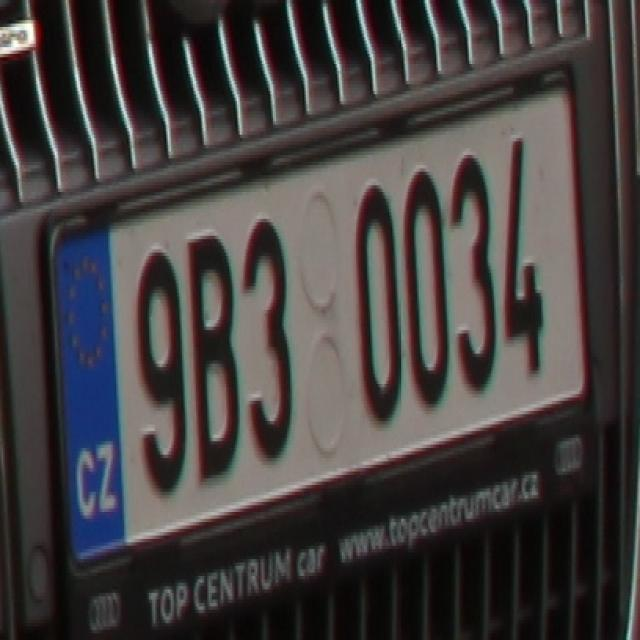0: (403, 162, 450, 411), (354, 182, 398, 421)
3: (243, 216, 293, 468), (450, 152, 496, 394)
4: (499, 121, 546, 374)
9: (135, 239, 187, 489)
B: (187, 229, 237, 482)
